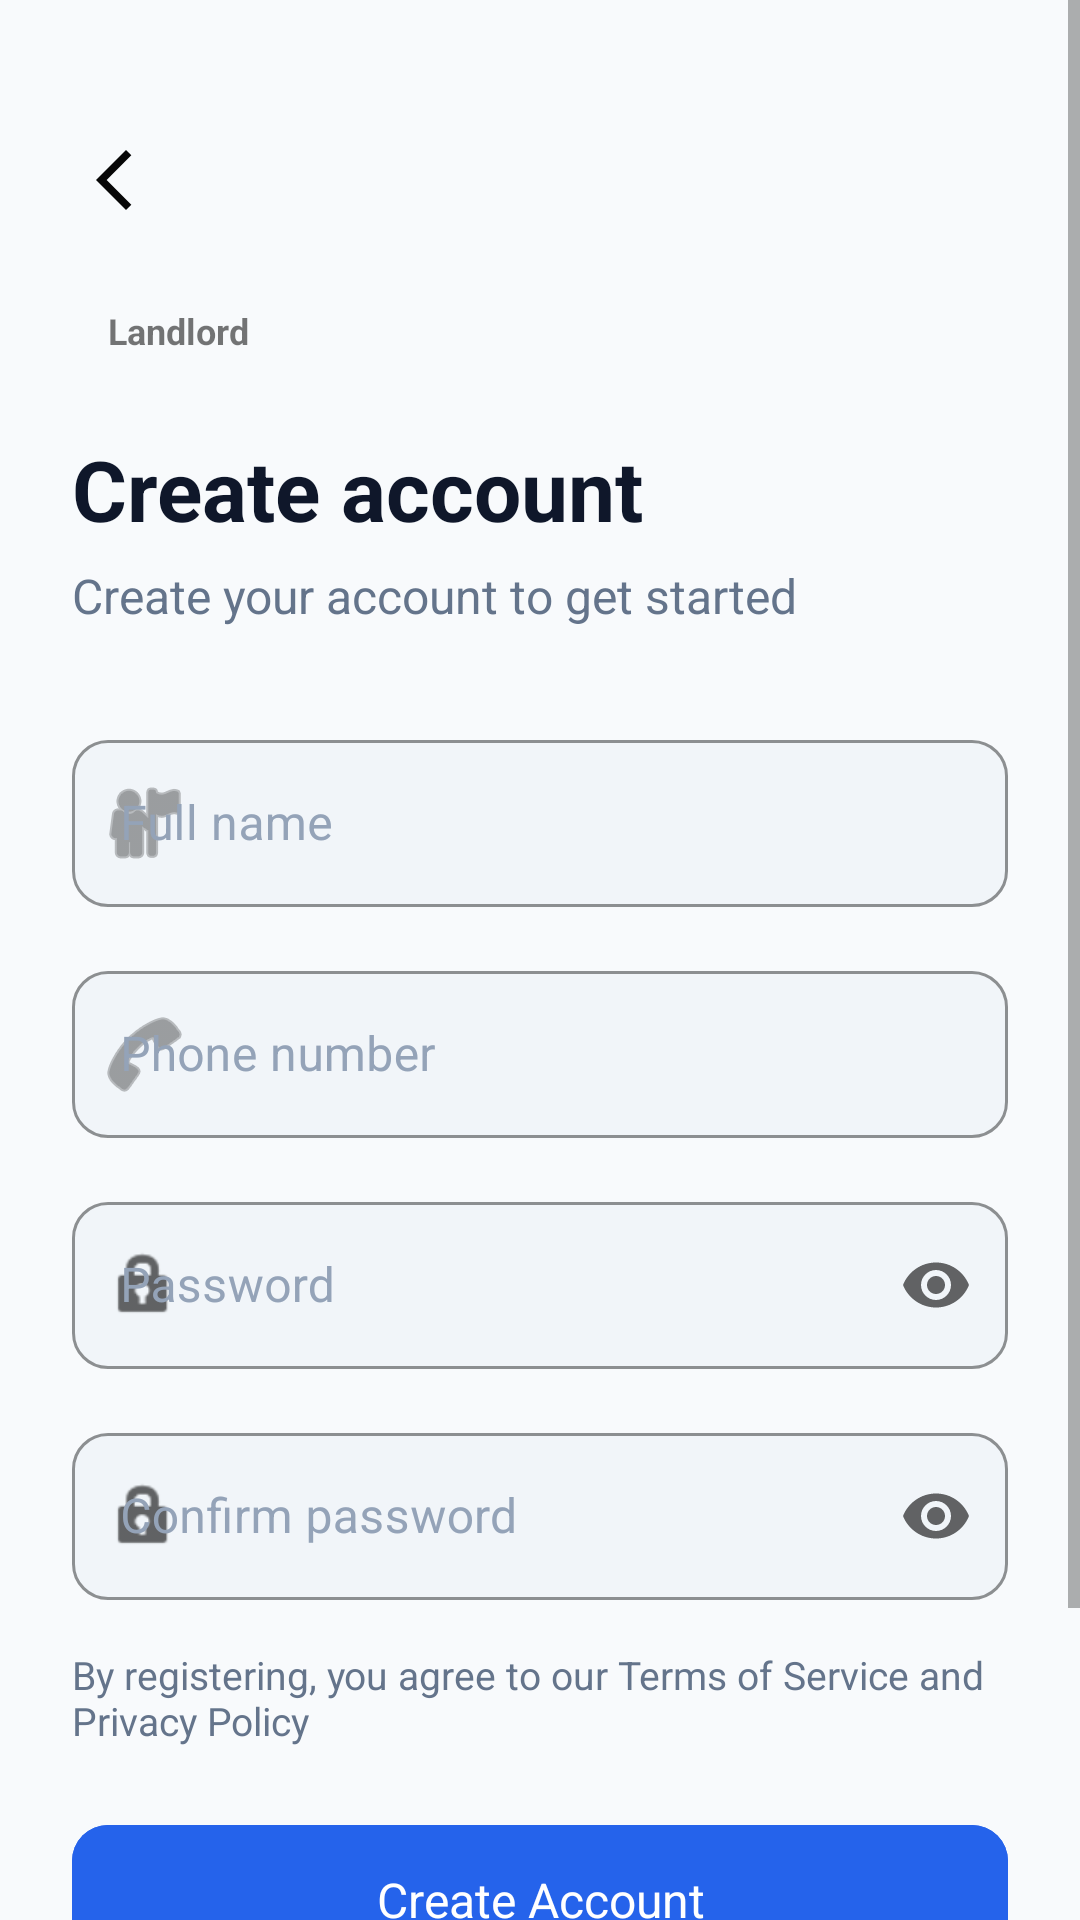

Named icons in this screenshot (1080 x 1920) and their bounding boxes, (x1, y1, x2, y2):
Back: (96, 150, 131, 210)
